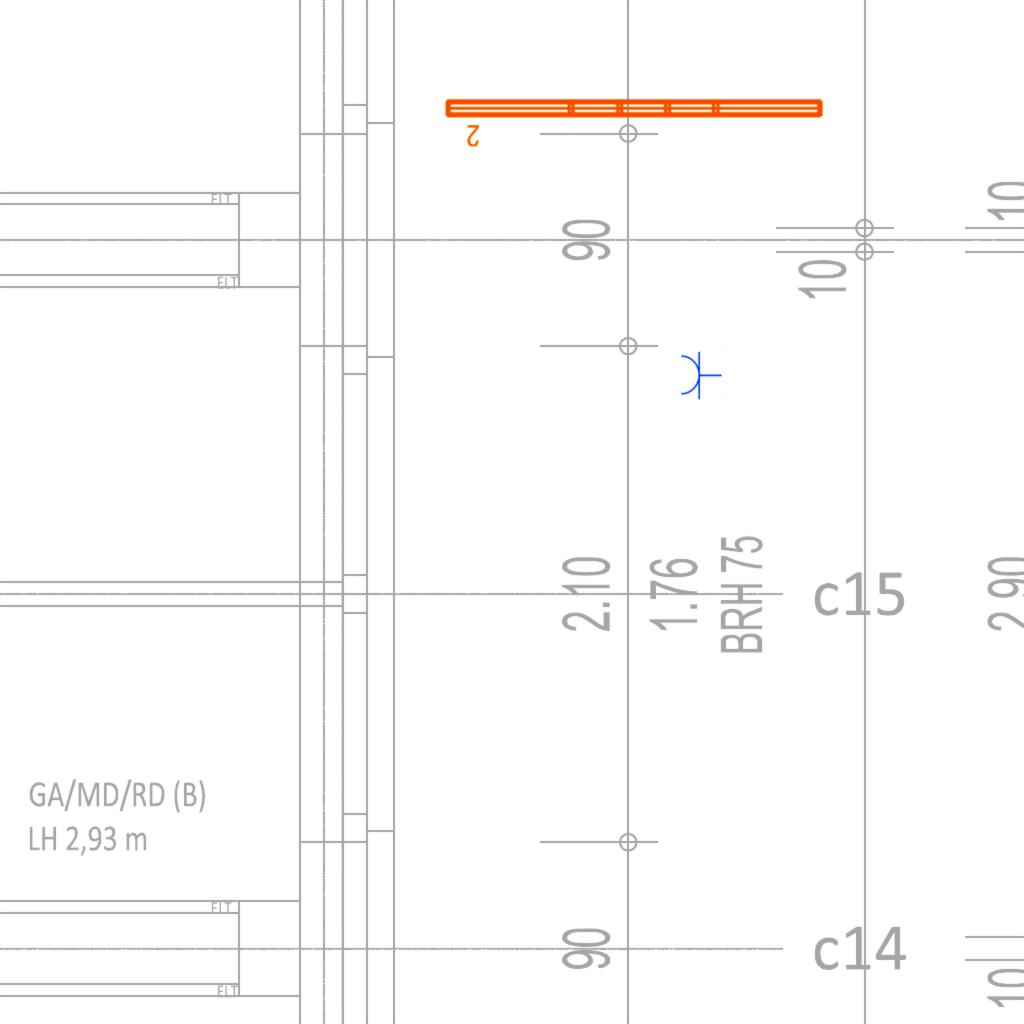Ambulanz_Pendelleuchte_LED: (441, 93, 828, 149)
Schukosteckdose_einfach: (679, 350, 722, 400)
